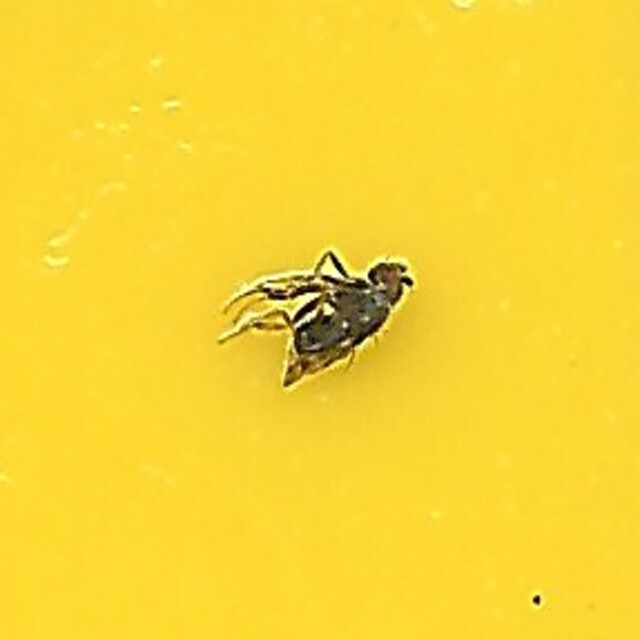Brachycera: (223, 248, 417, 392)
